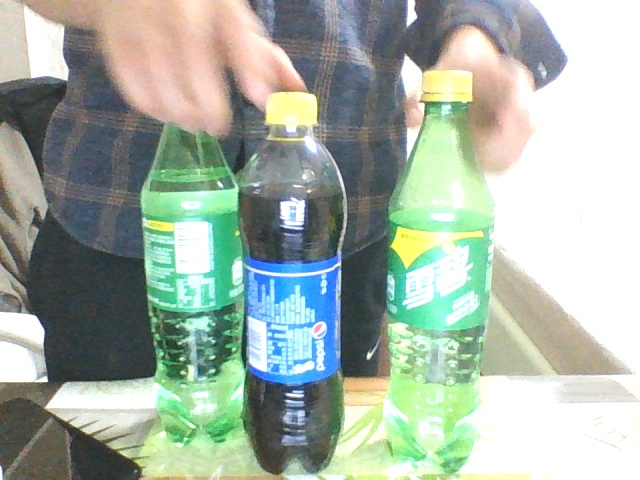Cola: (238, 92, 348, 473)
Sprite: (384, 68, 492, 476), (139, 117, 241, 443)
